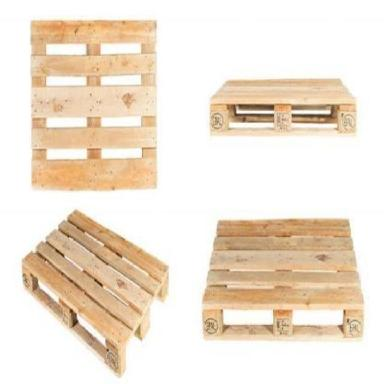pallet: (22, 209, 169, 379), (30, 19, 157, 191), (202, 218, 365, 342), (209, 78, 357, 137), (291, 310, 343, 339), (292, 105, 338, 134), (226, 105, 274, 132), (222, 310, 273, 332)
